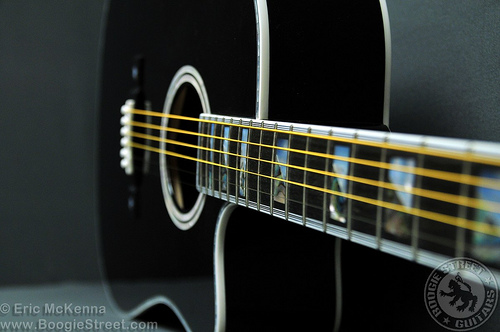guitar: (91, 1, 500, 332)
